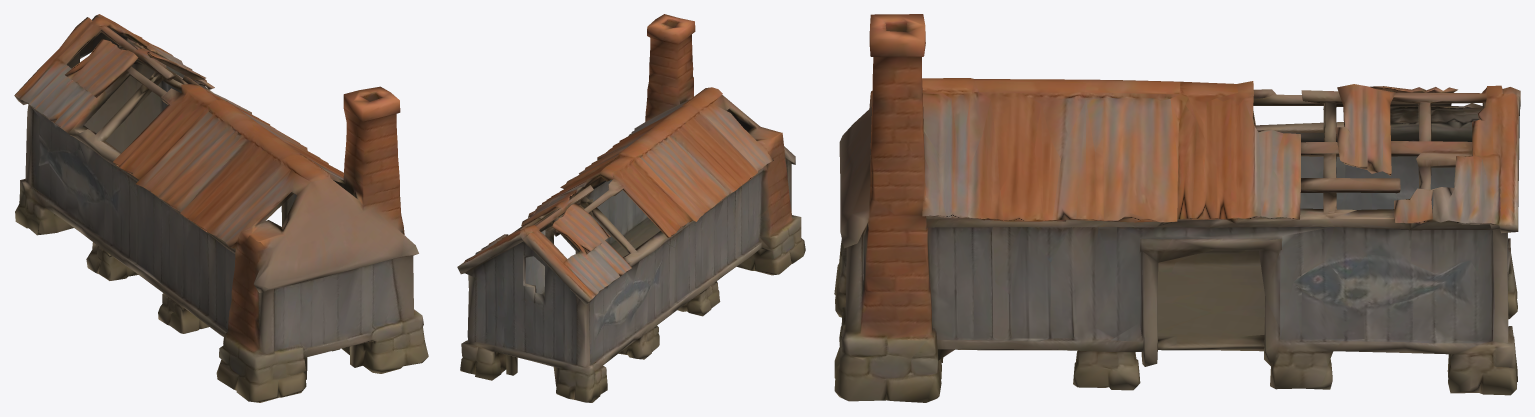
File: cannery.glb
3 renders of one model, left to right at view 1: azimuth 30°, elevation 25°; view 2: azimuth 150°, elevation 25°; view 3: azimuth 270°, elevation 25°, orthographic. The views are drawn at different scales.
Visible parts, largest first — view 1: tripo_node_954e515b-b6e0-419d-96d9-7acce9661433; view 2: tripo_node_954e515b-b6e0-419d-96d9-7acce9661433; view 3: tripo_node_954e515b-b6e0-419d-96d9-7acce9661433.
Part boxes in pixels (x1,y1,x2,y2): tripo_node_954e515b-b6e0-419d-96d9-7acce9661433: (14,14,428,402); tripo_node_954e515b-b6e0-419d-96d9-7acce9661433: (457,14,805,402); tripo_node_954e515b-b6e0-419d-96d9-7acce9661433: (834,14,1520,402).
Size of the model in its own units: 0.4134 by 0.566 by 1.
Materials: 1 (1 with a texture image).
